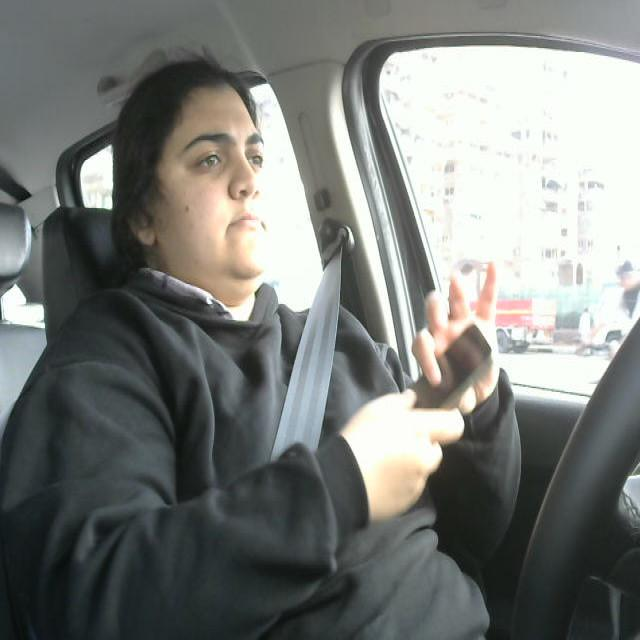mobile use: (397, 318, 498, 429)
